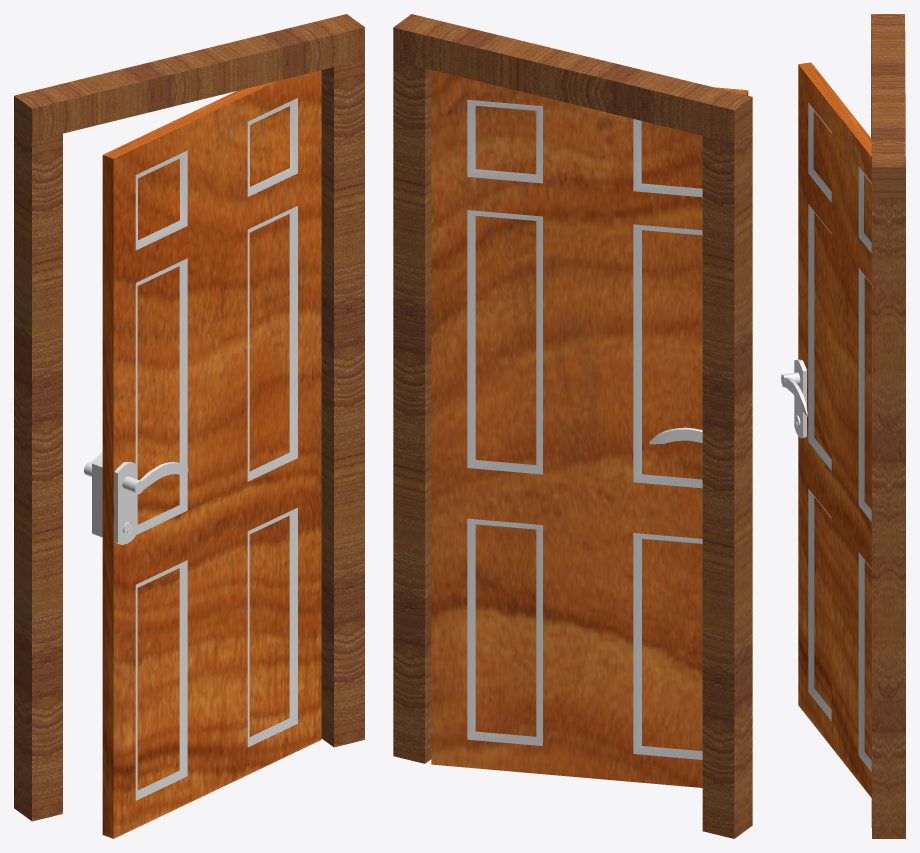
Rendered from puerta_abierta.fbx.
3 renders of one model, left to right at view 1: azimuth 30°, elevation 25°; view 2: azimuth 150°, elevation 25°; view 3: azimuth 270°, elevation 25°, orthographic. The views are drawn at different scales.
Parts seen in each view (by area): view 1: pCube5, marco puerta, Door; view 2: pCube5, marco puerta; view 3: pCube5, marco puerta, Door.
Part boxes in pixels (x1=…): pCube5: x1=102, y1=70, x2=321, y2=838; marco puerta: x1=14, y1=14, x2=364, y2=821; Door: x1=84, y1=452, x2=188, y2=544; pCube5: x1=431, y1=70, x2=748, y2=787; marco puerta: x1=393, y1=14, x2=752, y2=838; pCube5: x1=798, y1=62, x2=871, y2=797; marco puerta: x1=871, y1=14, x2=905, y2=838; Door: x1=781, y1=359, x2=807, y2=438.
Size of the model in its own units: 2054 by 4198 by 707.
